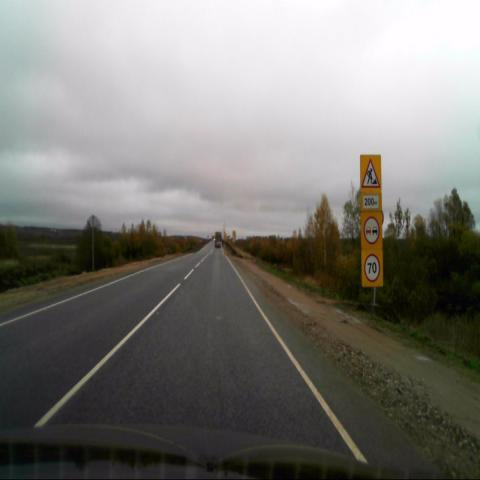3_24: (361, 248, 383, 286)
8_1_1: (360, 193, 382, 212)
